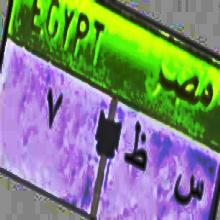7: (42, 80, 66, 136)
Thaa: (123, 115, 148, 182)
seen: (171, 166, 205, 217)
